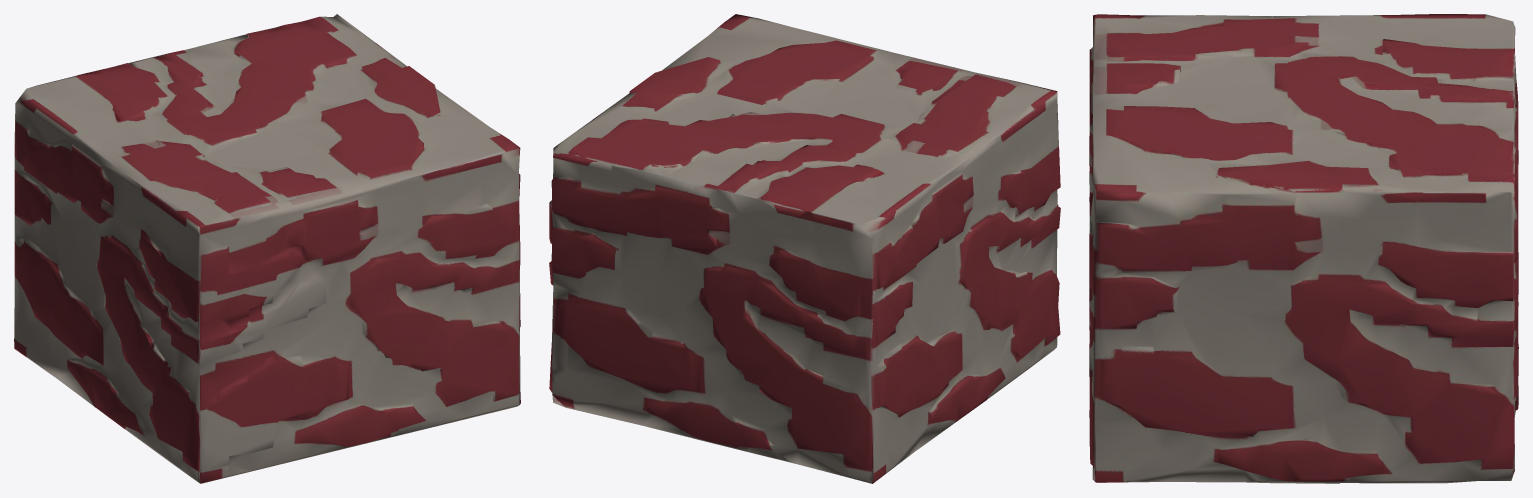
Rendered from meat+cube+3d+model.obj.
The picture shows the model from 3 angles, left to right: view 1: azimuth 30°, elevation 25°; view 2: azimuth 150°, elevation 25°; view 3: azimuth 270°, elevation 25°; orthographic projection. The views are drawn at different scales.
Visible parts, largest first — view 1: meshes[0]; view 2: meshes[0]; view 3: meshes[0].
Boxes of the visible parts, x1,y1,x2,y2 form: meshes[0]: [14, 14, 520, 483]; meshes[0]: [549, 14, 1060, 483]; meshes[0]: [1089, 14, 1518, 483].
Bounding box in the file's own units: 0.9794 × 0.7493 × 0.9807.
1 material, 1 textured.
